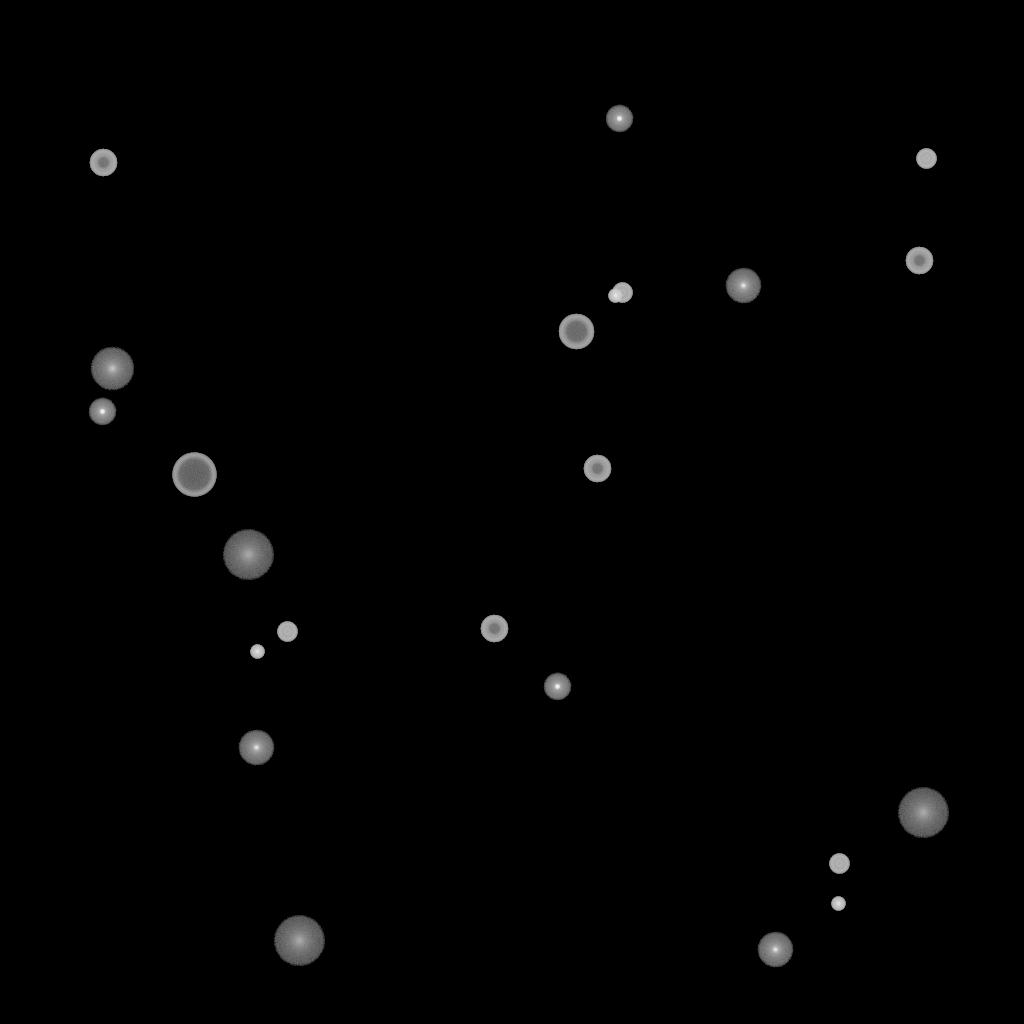depth:-10: (88, 398, 116, 426), (543, 673, 571, 701), (605, 105, 633, 133)
depth:-30: (608, 289, 622, 303), (250, 645, 264, 659), (831, 897, 845, 911)
depth:-40: (277, 622, 297, 642), (612, 283, 632, 303), (829, 854, 849, 874), (916, 149, 936, 169)
depth:-50: (89, 149, 117, 177), (905, 247, 933, 275), (480, 615, 508, 643), (583, 455, 611, 483)
depth:-60: (558, 314, 594, 350)
depth:-70: (172, 453, 216, 497)
depth:0: (757, 932, 793, 968), (725, 268, 761, 304), (238, 730, 274, 766)
depth:10: (90, 347, 134, 391)
depth:20: (222, 530, 274, 580), (897, 788, 949, 838), (273, 916, 325, 966)
